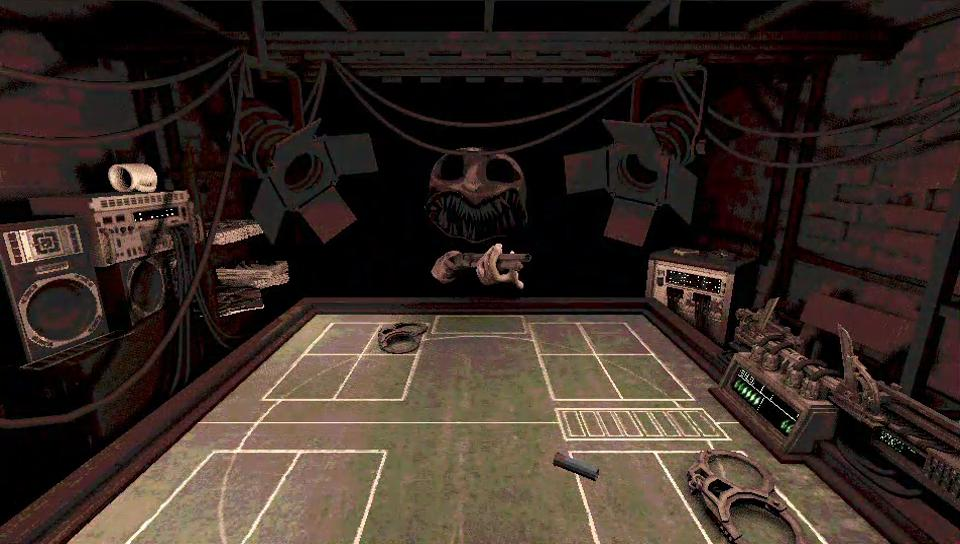ally: (49, 421, 897, 543)
emptyspace: (128, 449, 292, 543), (236, 448, 383, 543), (569, 450, 717, 543), (597, 352, 695, 400), (262, 354, 361, 401), (539, 352, 624, 402), (335, 355, 415, 400), (580, 321, 654, 355), (303, 323, 378, 355), (529, 320, 597, 355)
enemyspace: (199, 309, 727, 415)
handcuff: (686, 448, 810, 543), (376, 322, 429, 353)
